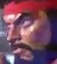ryu: (0, 0, 52, 63)
